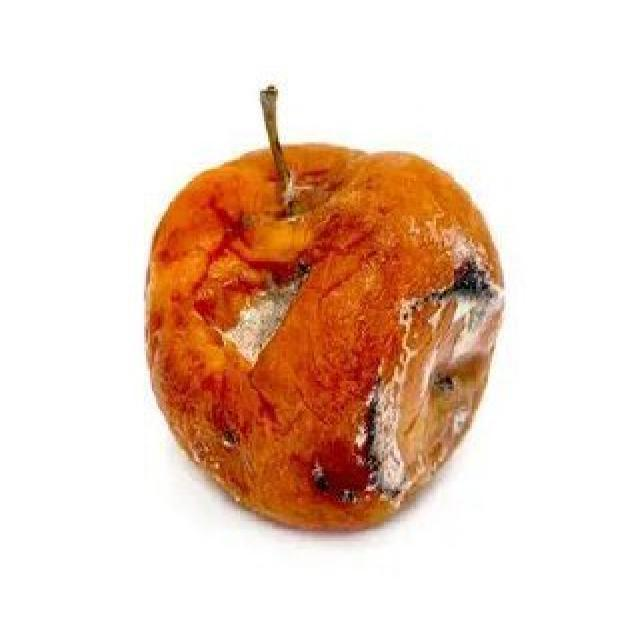Rotten: (136, 133, 496, 527)
